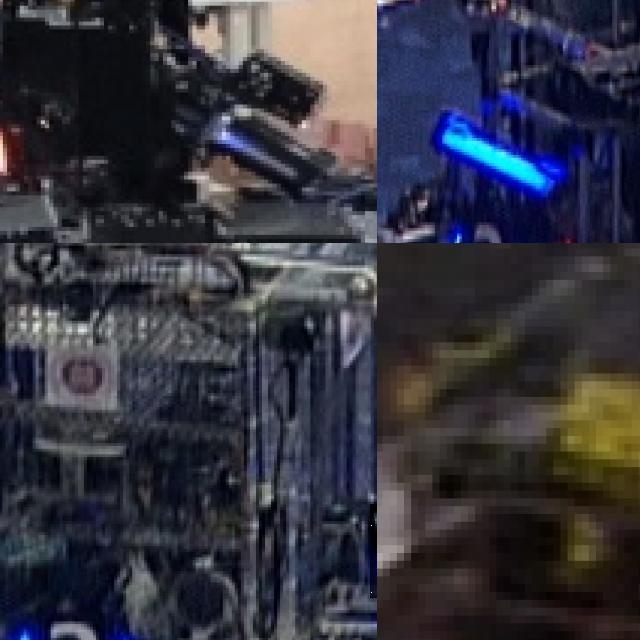B2: (14, 610, 132, 640), (449, 211, 528, 243)
